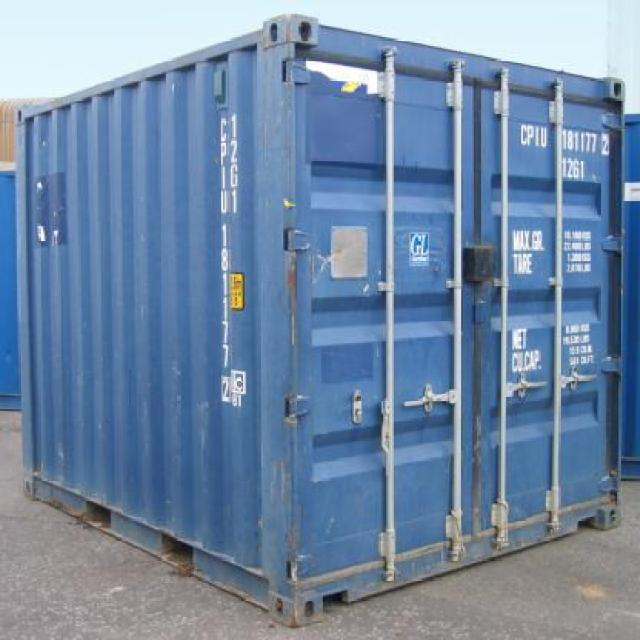ISO: (562, 157, 590, 180)
container_number: (518, 126, 610, 153)
